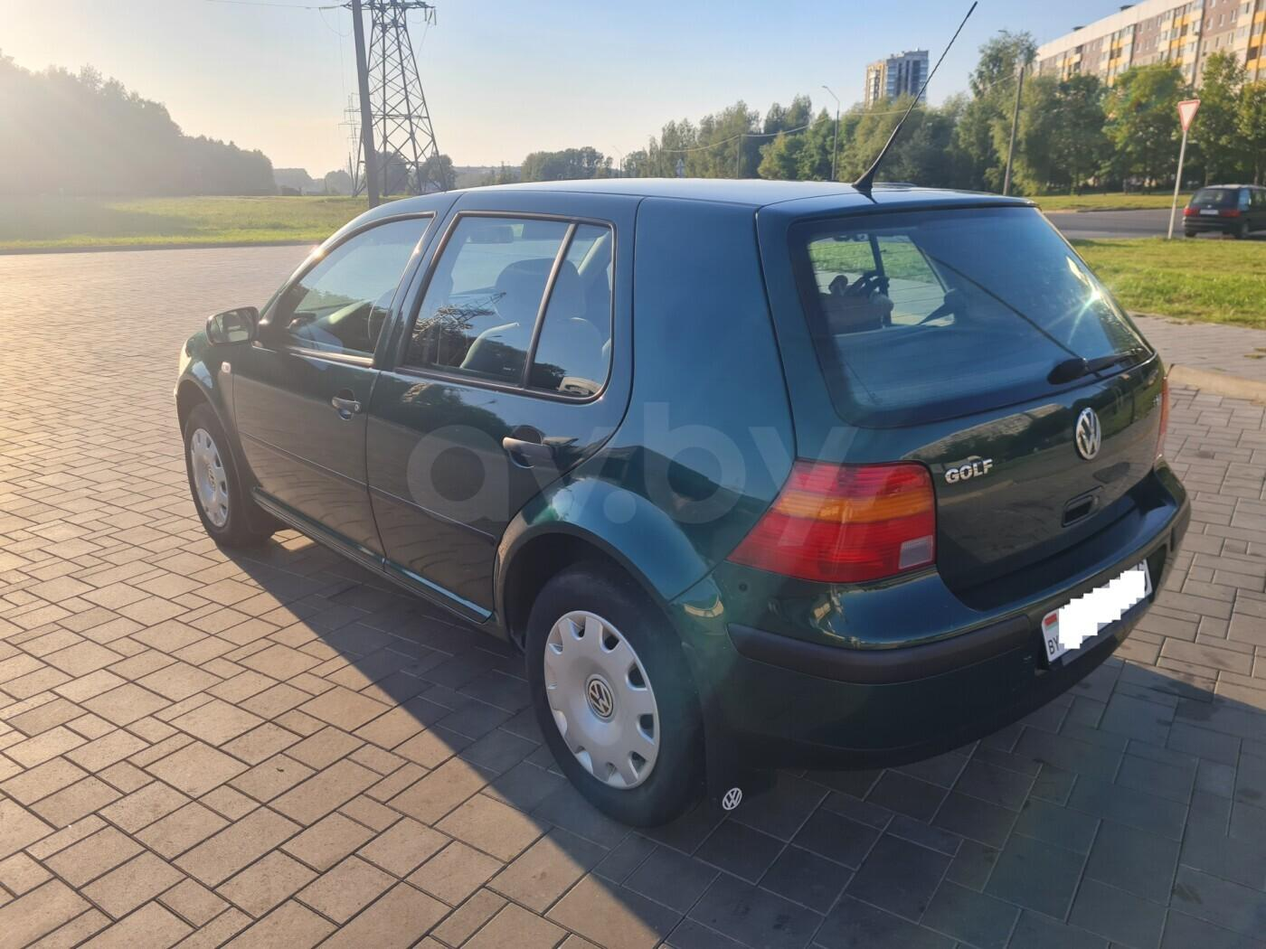Golf_1997-2006: (168, 170, 1194, 809)
